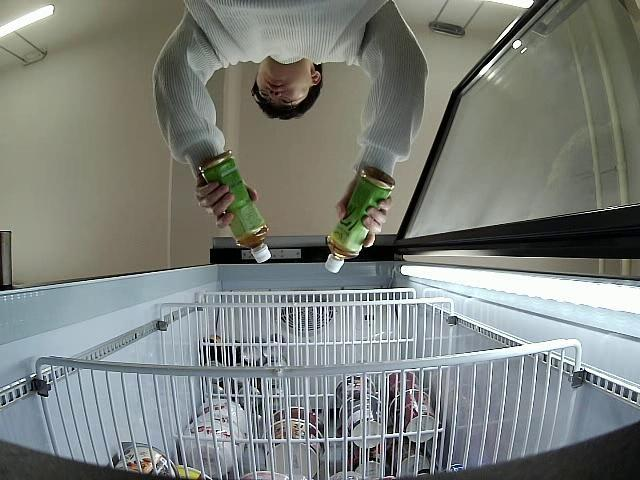19_17cha: (200, 152, 272, 266), (323, 166, 396, 272)
